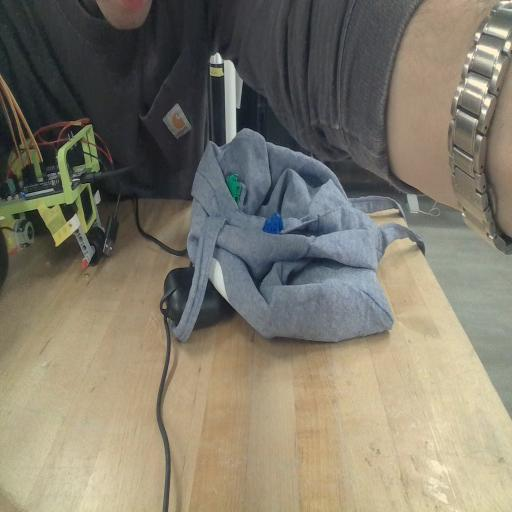blue LEGO minifig: (263, 210, 287, 237)
green LEGO minifig: (223, 169, 243, 198)
